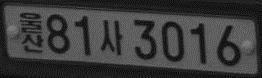0: (161, 20, 185, 62)
1: (189, 21, 208, 64), (74, 14, 91, 56)
3: (131, 18, 158, 61)
6: (216, 24, 242, 67)
8: (44, 13, 70, 54)
사: (99, 18, 123, 56)
울산_V: (19, 11, 44, 54)
